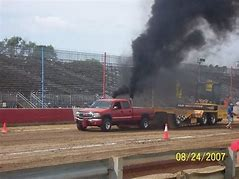smoke: (111, 1, 239, 96)
